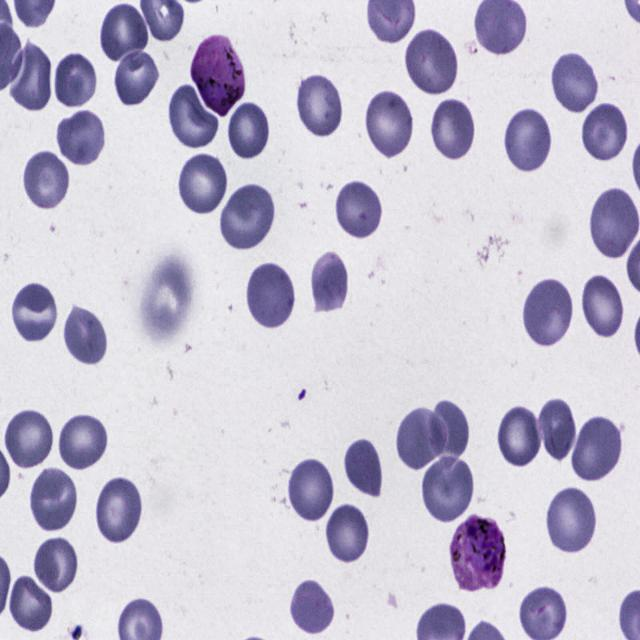difficult: (190, 32, 246, 120)
red blood cell: (220, 180, 276, 252), (403, 28, 461, 96), (589, 185, 640, 261), (521, 276, 575, 347), (421, 455, 475, 525), (363, 89, 416, 160), (546, 484, 598, 556), (286, 454, 337, 526), (7, 38, 54, 116), (176, 150, 231, 216), (93, 474, 144, 545), (244, 260, 296, 329), (394, 406, 448, 472), (167, 81, 218, 150), (550, 49, 602, 116), (571, 415, 623, 482), (502, 107, 554, 174), (57, 408, 111, 472), (28, 465, 78, 534), (582, 271, 630, 342), (431, 93, 477, 164), (496, 402, 544, 470), (61, 303, 111, 368), (10, 280, 60, 344), (333, 179, 385, 240), (21, 148, 72, 210), (99, 1, 149, 64), (342, 435, 387, 503), (580, 102, 630, 163), (55, 110, 107, 168), (6, 406, 52, 471), (295, 76, 344, 137), (426, 399, 473, 462), (114, 49, 162, 110), (309, 246, 352, 314), (30, 536, 80, 594), (325, 502, 371, 565), (290, 575, 336, 636), (8, 573, 54, 633), (226, 100, 272, 160), (537, 396, 576, 465), (54, 50, 99, 107)
schizont: (448, 514, 508, 592)
